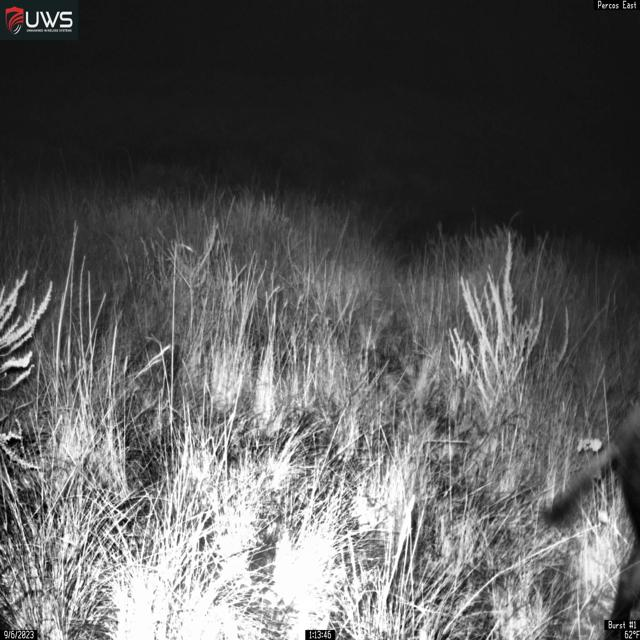pig: (540, 378, 640, 620)
